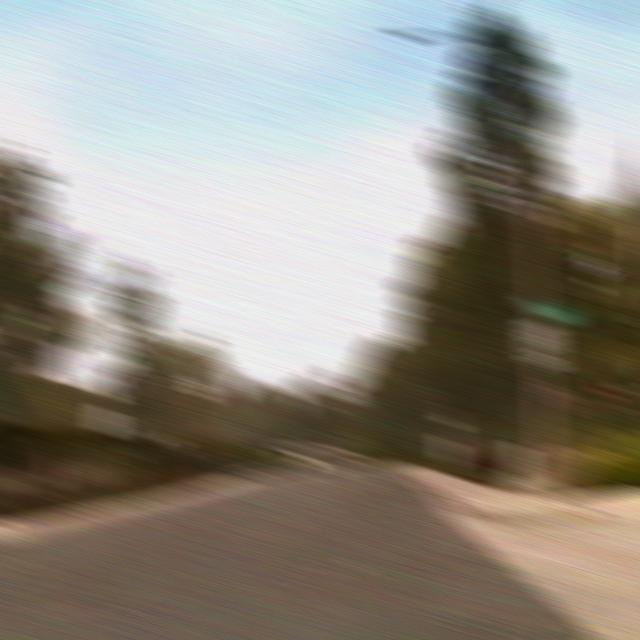speedLimit25: (521, 321, 561, 368)
